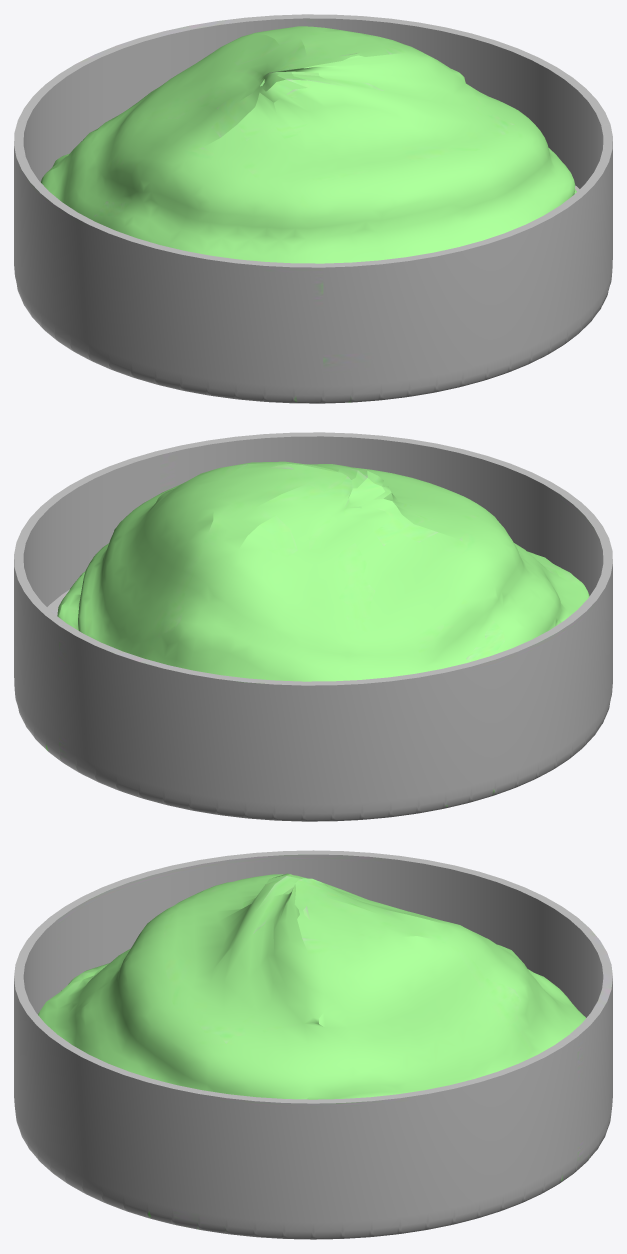
Rendered from eco_cream.glb.
3 renders of one model, top to bottom at view 1: azimuth 30°, elevation 25°; view 2: azimuth 150°, elevation 25°; view 3: azimuth 270°, elevation 25°, orthographic.
Visible parts, largest first — view 1: eco_cream; view 2: eco_cream; view 3: eco_cream.
Boxes of the visible parts, left/top/right/bottom form: eco_cream: left=14, top=14, right=612, bottom=403; eco_cream: left=14, top=432, right=612, bottom=821; eco_cream: left=14, top=850, right=612, bottom=1239.
Size of the model in its own units: 2 by 0.8174 by 2.
1 material, 1 textured.
